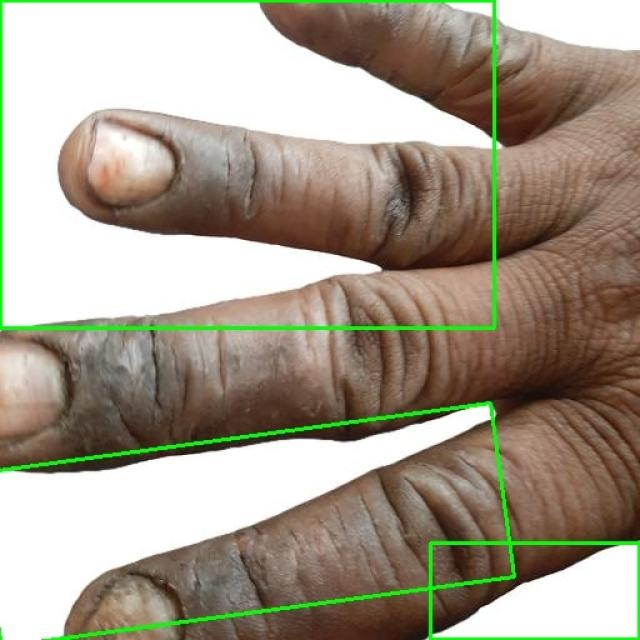Eczema: (0, 0, 494, 328), (0, 403, 515, 640), (430, 542, 639, 639)
